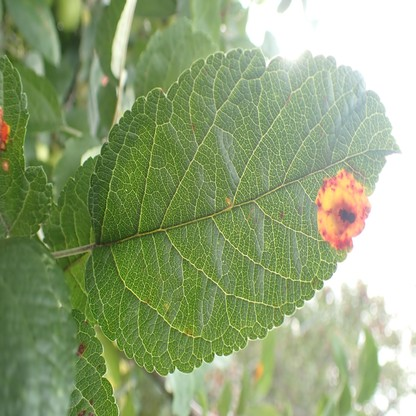rust: (316, 168, 371, 253), (0, 107, 10, 172), (253, 363, 264, 383), (224, 195, 232, 205)
